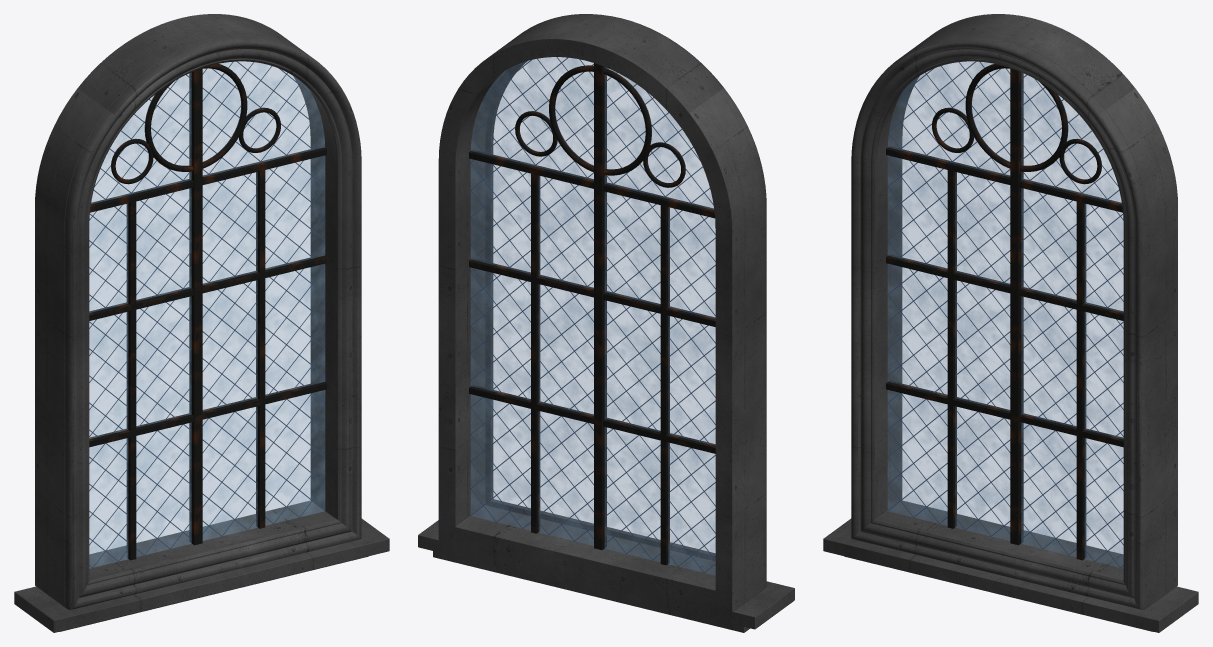
Rendered from Window_Arched.gltf.
The picture shows the model from 3 angles, left to right: view 1: azimuth 30°, elevation 25°; view 2: azimuth 150°, elevation 25°; view 3: azimuth 330°, elevation 25°; orthographic projection.
Parts seen in each view (by area): view 1: Window_Arched_Glass, Window_Arched_Stone, Window_Arched_Iron; view 2: Window_Arched_Glass, Window_Arched_Stone, Window_Arched_Iron; view 3: Window_Arched_Glass, Window_Arched_Stone, Window_Arched_Iron.
Part boxes in pixels (<box>): Window_Arched_Glass: <box>89,61,325,568</box>; Window_Arched_Stone: <box>14,14,389,632</box>; Window_Arched_Iron: <box>89,64,326,560</box>; Window_Arched_Glass: <box>470,57,715,575</box>; Window_Arched_Stone: <box>418,14,794,632</box>; Window_Arched_Iron: <box>469,63,715,565</box>; Window_Arched_Glass: <box>887,61,1123,568</box>; Window_Arched_Stone: <box>823,14,1198,632</box>; Window_Arched_Iron: <box>886,64,1123,560</box>.
Bounding box in the file's own units: 1.95 × 3.06 × 0.41.
Materials: 3 (3 with a texture image).
